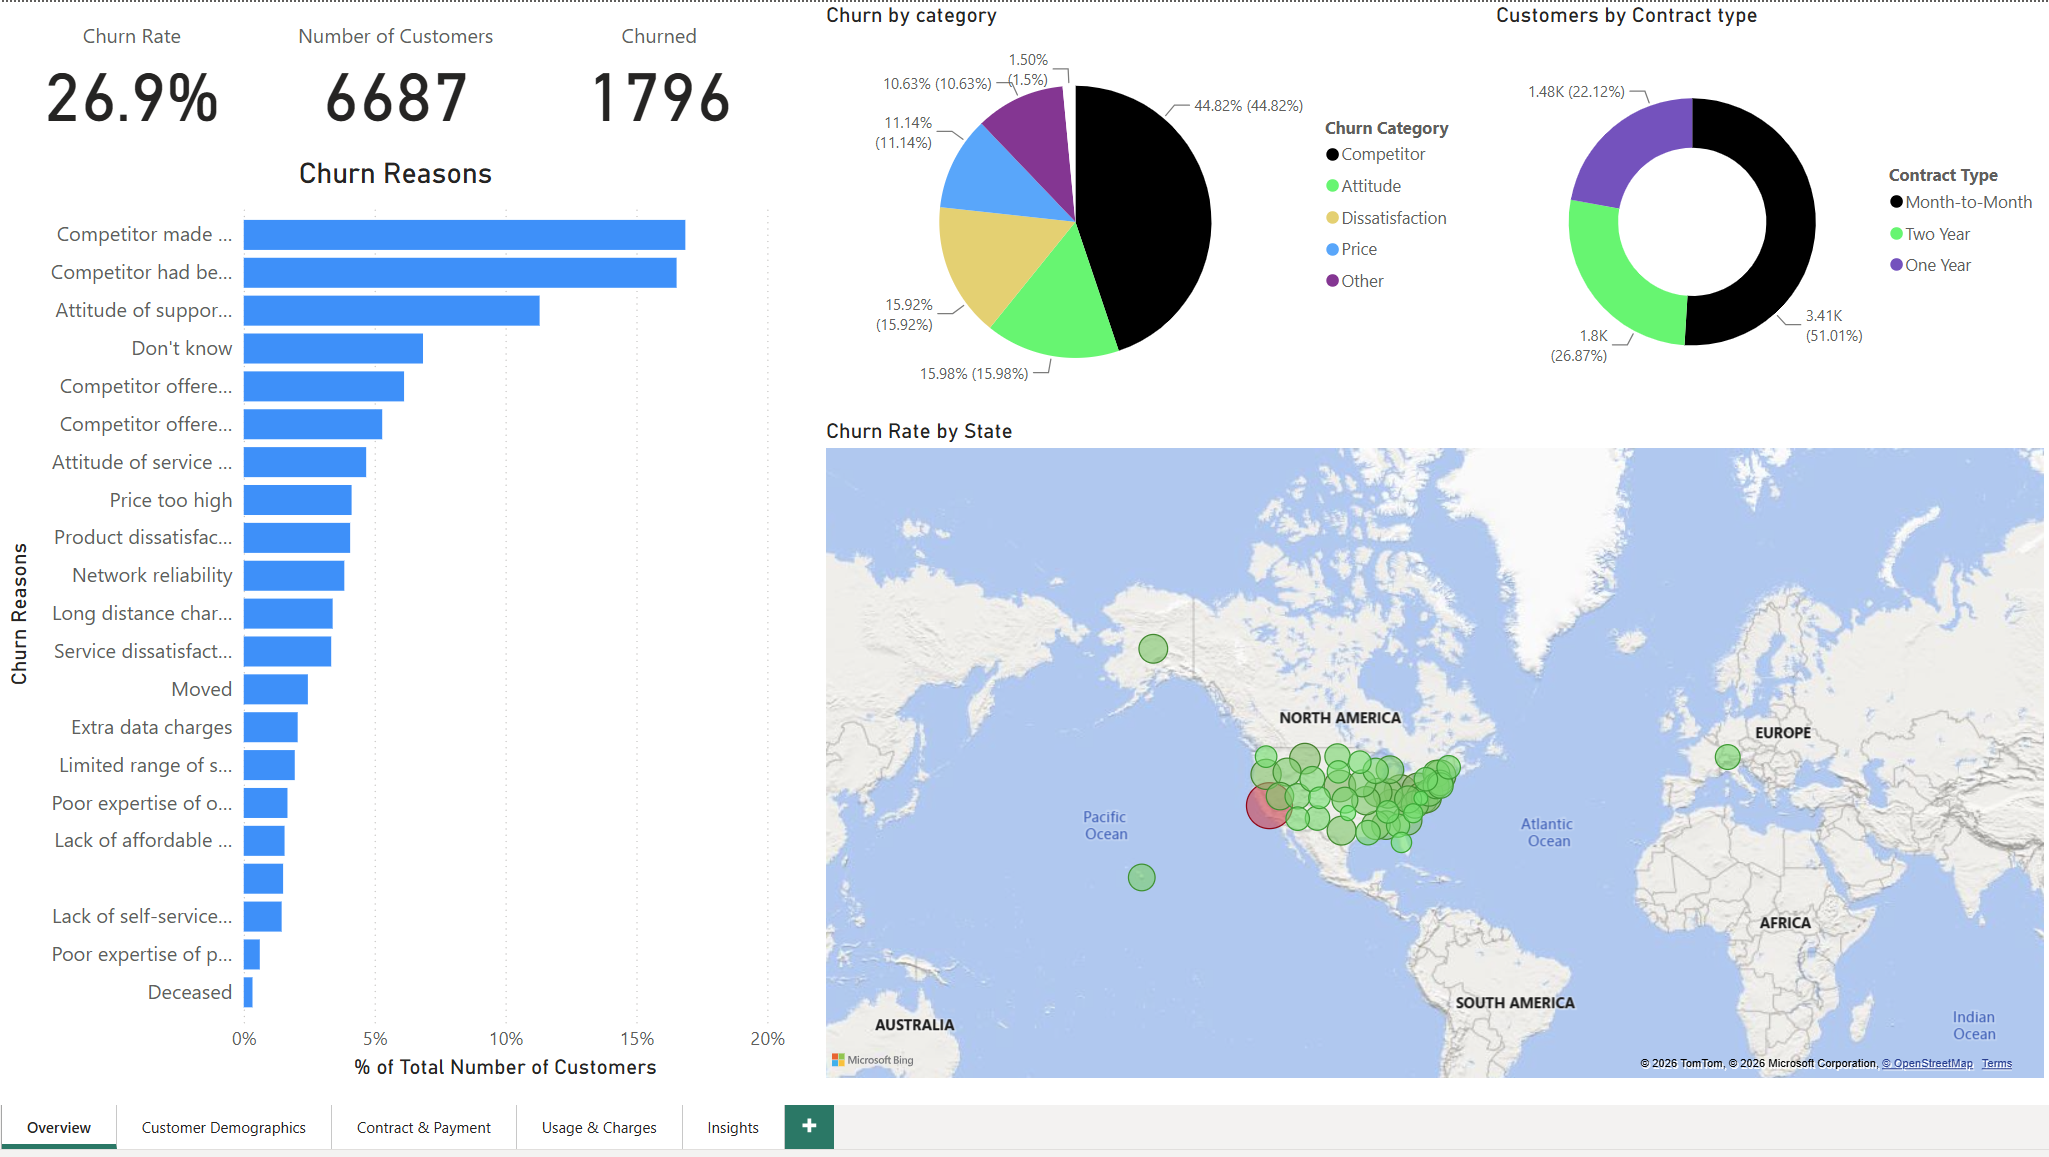

Layout of this report page (visuals, bound fields, positions):
{"tool":"powerbi","page":{"name":"Overview","canvas":[1640,960],"ordinal":0},"visuals":[{"type":"clusteredBarChart","title":"Churn Reasons","fields":{"Category":["Databel - Data.Churn Reason"],"Y":["CountNonNull(Databel - Data.Number of Customers in Group)"]},"box":[0,123,633,743],"z":3000},{"type":"pieChart","title":"Churn by category","fields":{"Category":["Databel - Data.Churn Category"],"Y":["CountNonNull(Databel - Data.Churn Label)"]},"box":[656,0,524,333],"z":4000},{"type":"donutChart","title":"Customers by Contract type","fields":{"Category":["Databel - Data.Contract Type"],"Y":["Count(Databel - Data.Customer ID)"]},"box":[1192,0,448,333],"z":5000},{"type":"map","fields":{"Category":["Databel - Data.State"],"Size":["Databel - Data.Churn Rate"]},"box":[656,333,984,533],"z":6000},{"type":"cardVisual","fields":{"Data":["Databel - Data.Churn Rate"]},"box":[0,0,211,123],"z":6001},{"type":"cardVisual","fields":{"Data":["Databel - Data.Number of Customers"]},"box":[211,0,211,123],"z":6002},{"type":"cardVisual","fields":{"Data":["Sum(Databel - Data.Churned)"]},"box":[422,0,211,123],"z":6003}]}

Visuals, with their boxes on the page's 1640x960 design canvas (x1, y1, x2, y2). These are canvas units, not pixel positions in the 2049x1157 screenshot, which may show the page scaled, cropped or inside an application window:
"Churn Reasons" clusteredBarChart: (left=0, top=123, right=633, bottom=866)
"Churn by category" pieChart: (left=656, top=0, right=1180, bottom=333)
"Customers by Contract type" donutChart: (left=1192, top=0, right=1640, bottom=333)
map - Databel - Data.State x Databel - Data.Churn Rate: (left=656, top=333, right=1640, bottom=866)
cardVisual - Databel - Data.Churn Rate: (left=0, top=0, right=211, bottom=123)
cardVisual - Databel - Data.Number of Customers: (left=211, top=0, right=422, bottom=123)
cardVisual - Sum(Databel - Data.Churned): (left=422, top=0, right=633, bottom=123)
